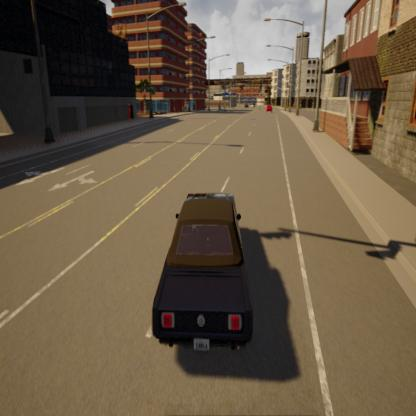Cars: (151, 191, 255, 358), (266, 102, 272, 114)
